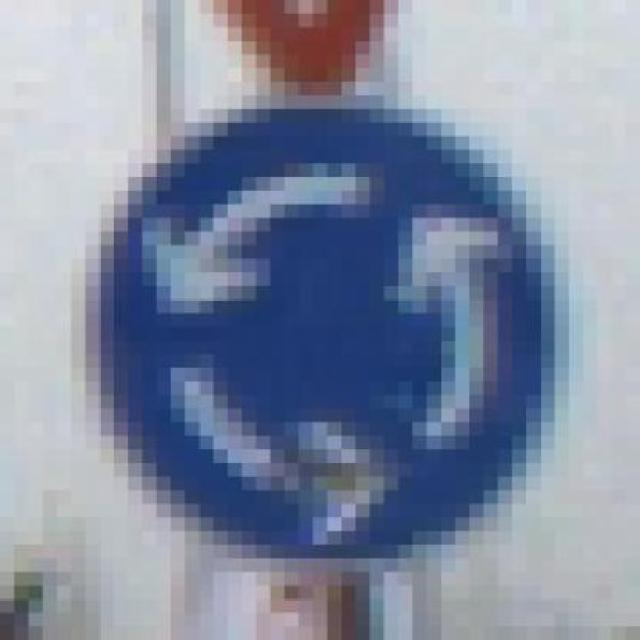Round-About: (71, 82, 612, 586)
